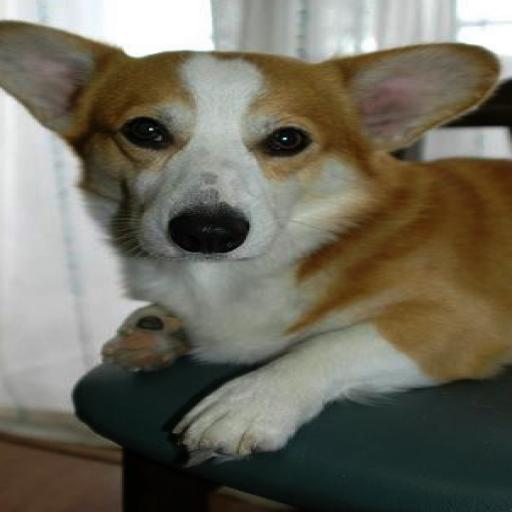dog_face: (0, 14, 490, 256)
